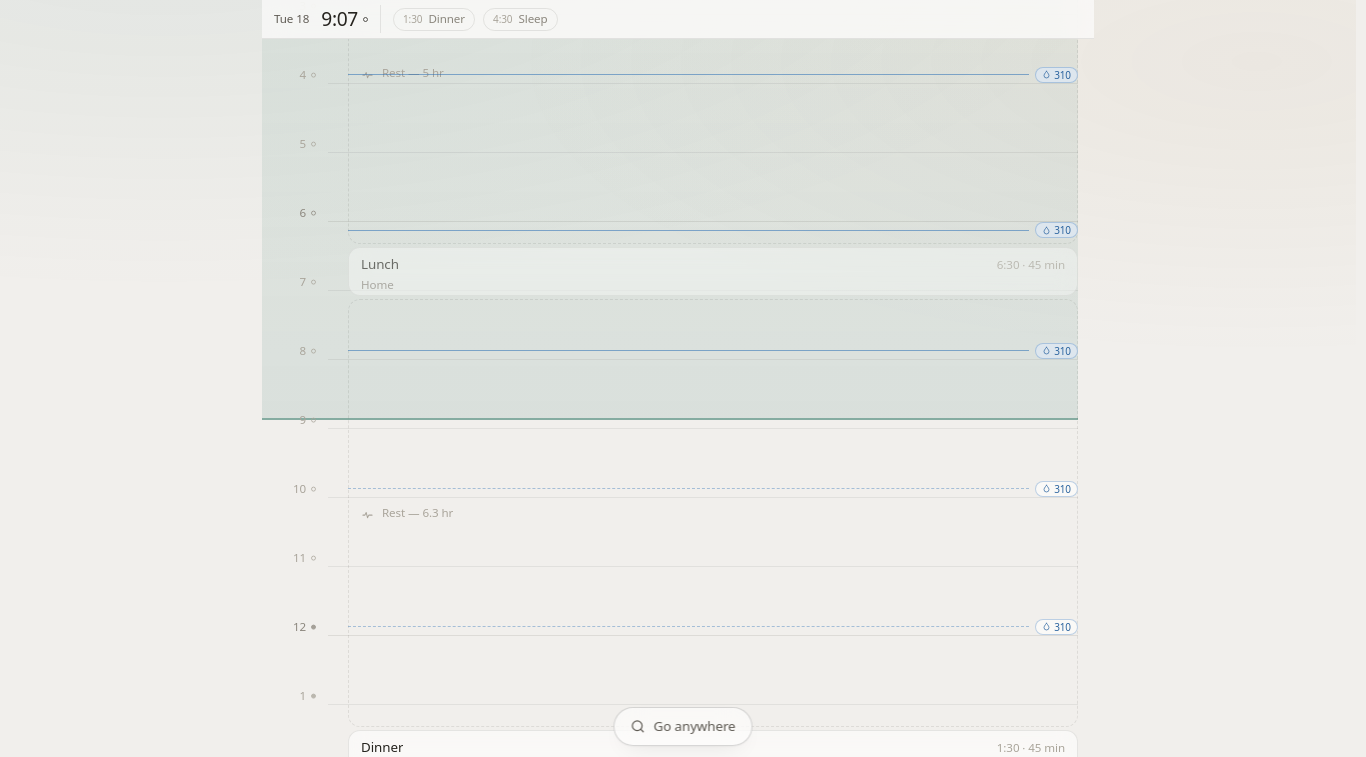
Scenario: every page is reachable › opens a panel with a calendar and links to every top-level page
The width and height of the screenshot is (1366, 757).
(page scrolled)
Click the button "Go anywhere": click(683, 726) [614,707,753,746]
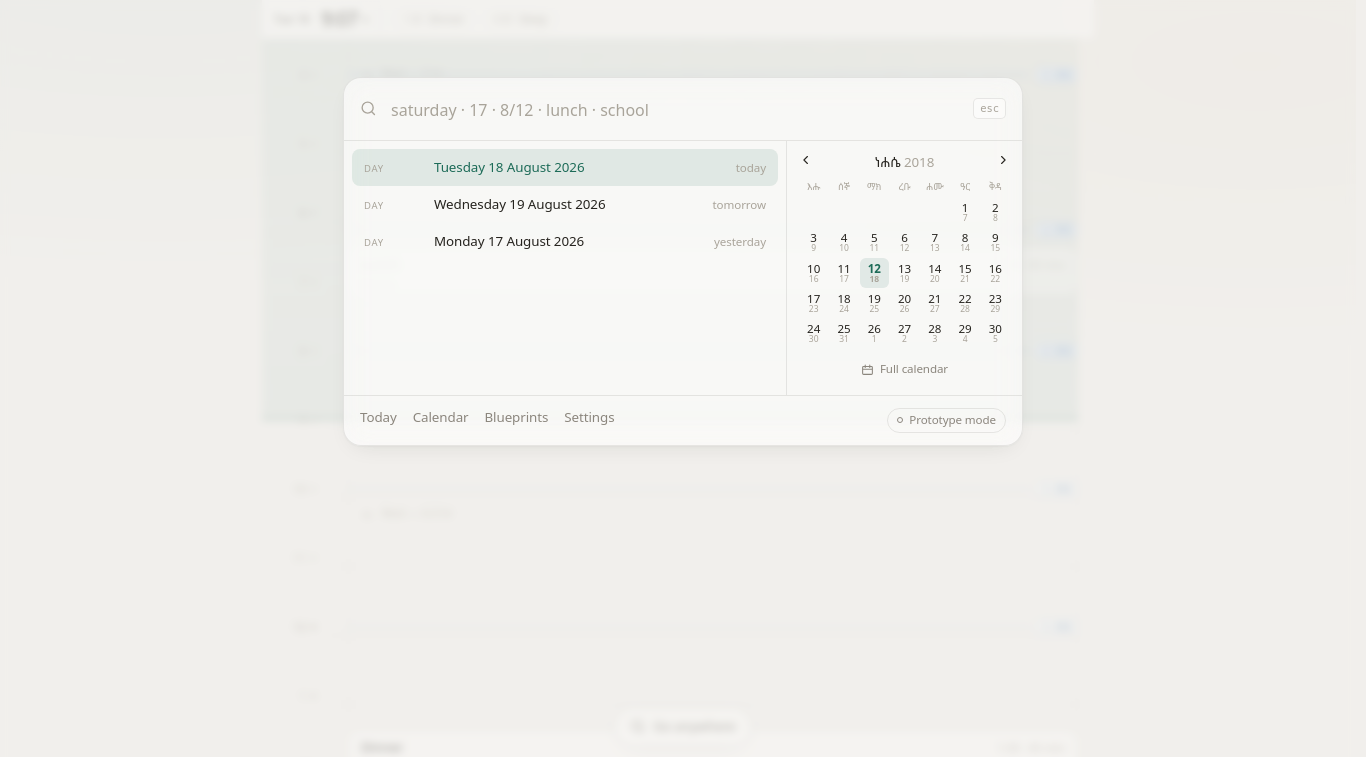
Now the dialog with class "go-panel" is shown, box [343,77,1023,446]
